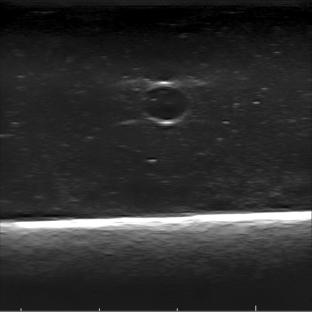vessel: (139, 80, 191, 125)
